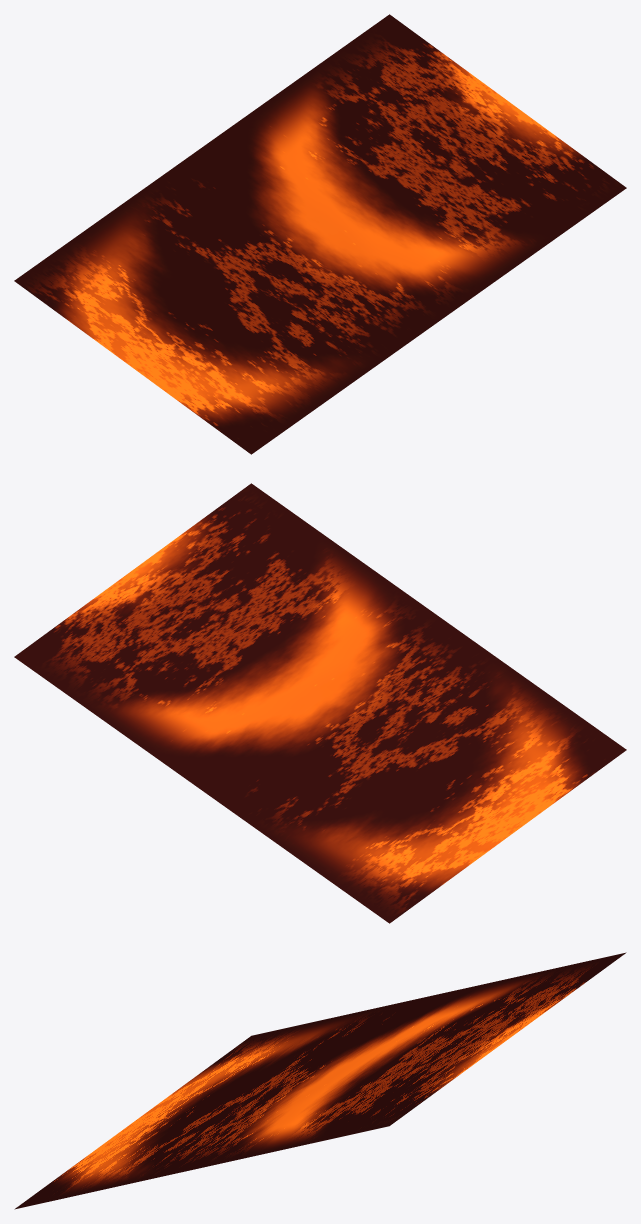
File: ripple_m24.glb
The picture shows the model from 3 angles, top to bottom: view 1: azimuth 30°, elevation 25°; view 2: azimuth 150°, elevation 25°; view 3: azimuth 330°, elevation 25°; orthographic projection.
Parts seen in each view (by area): view 1: r; view 2: r; view 3: r.
Boxes of the visible parts, box(x1,y1,x2,y2) form: r: box(14, 14, 626, 454); r: box(14, 483, 626, 923); r: box(14, 952, 626, 1209).
Size of the model in its own units: 0.9135 by 0.4067 by 1.
1 material, 1 textured.
